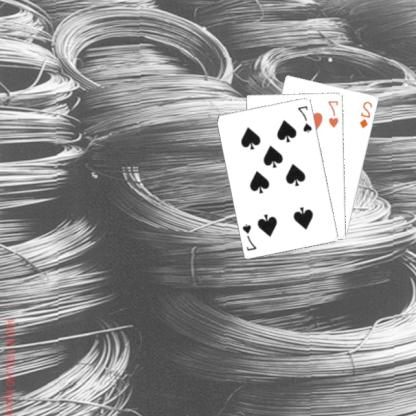2D: (359, 99, 376, 130)
7H: (327, 98, 342, 129)
7S: (297, 102, 316, 134), (242, 221, 260, 252)
